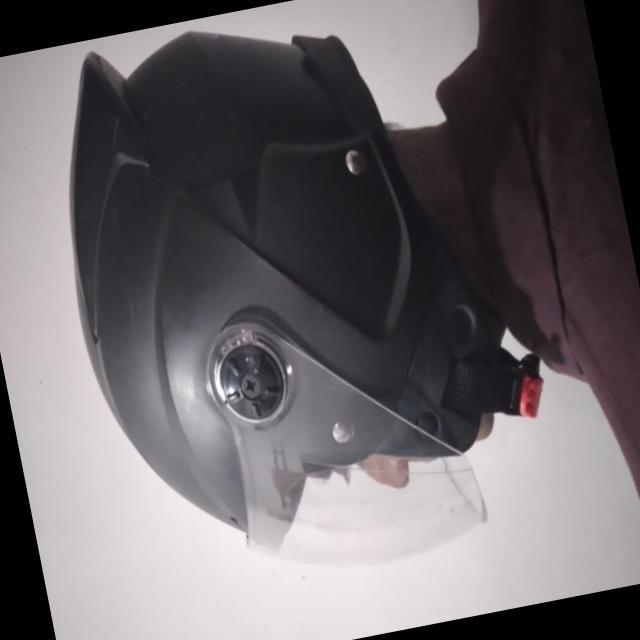with_helmet: (75, 38, 552, 574)
